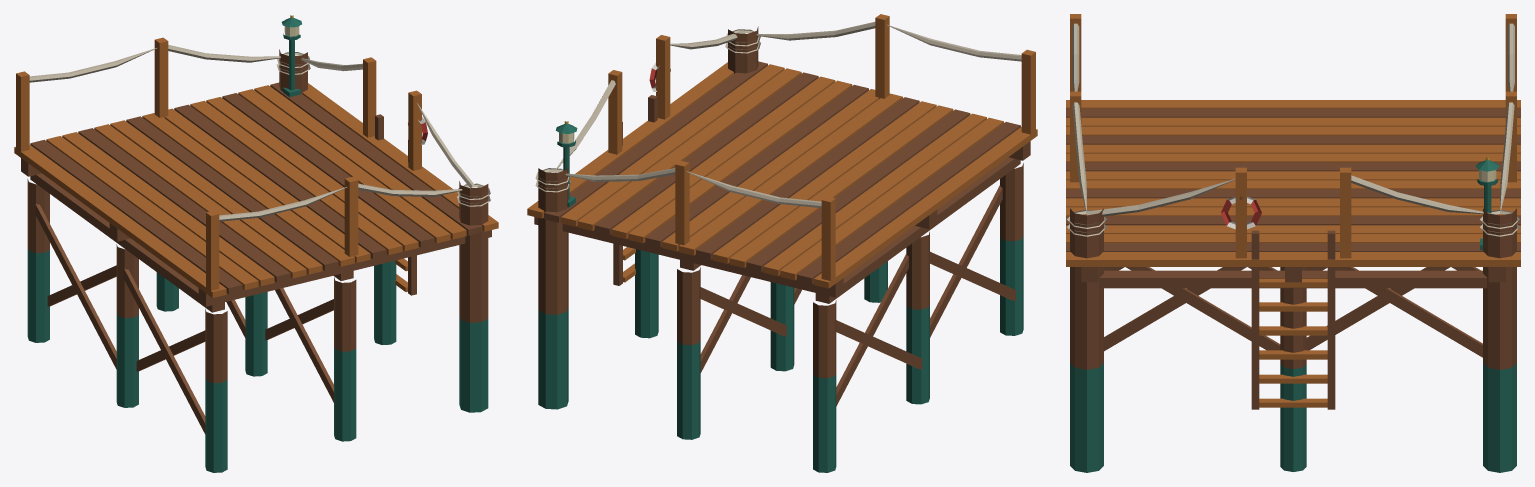
File: iskele_uc.glb
3 renders of one model, left to right at view 1: azimuth 30°, elevation 25°; view 2: azimuth 150°, elevation 25°; view 3: azimuth 270°, elevation 25°, orthographic. The views are drawn at different scales.
Visible parts, largest first — view 1: iskele_uc; view 2: iskele_uc; view 3: iskele_uc.
Boxes of the visible parts, x1=… form: iskele_uc: x1=14, y1=15, x2=498, y2=472; iskele_uc: x1=527, y1=14, x2=1037, y2=472; iskele_uc: x1=1066, y1=14, x2=1520, y2=472.
Size of the model in its own units: 4 by 3.55 by 4.8.
